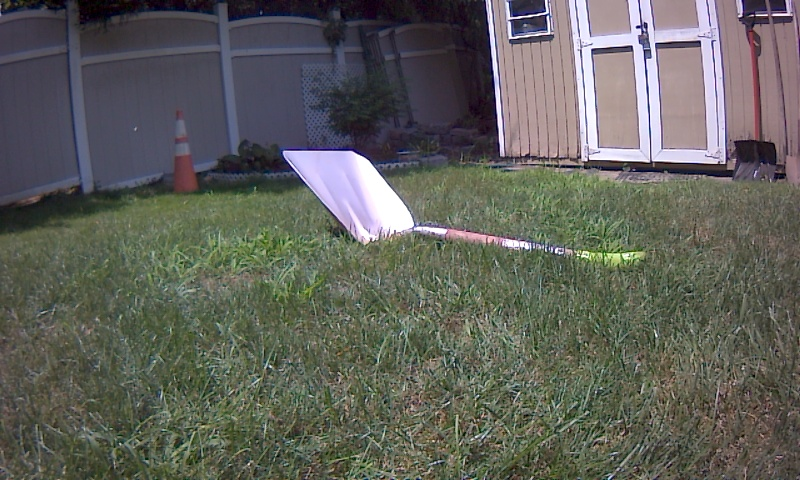shovel: (255, 126, 667, 306)
